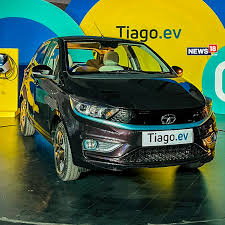Tiago: (18, 34, 218, 191)
